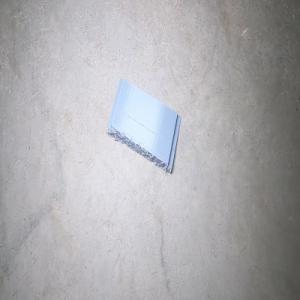PlasticPart: (105, 77, 181, 174)
